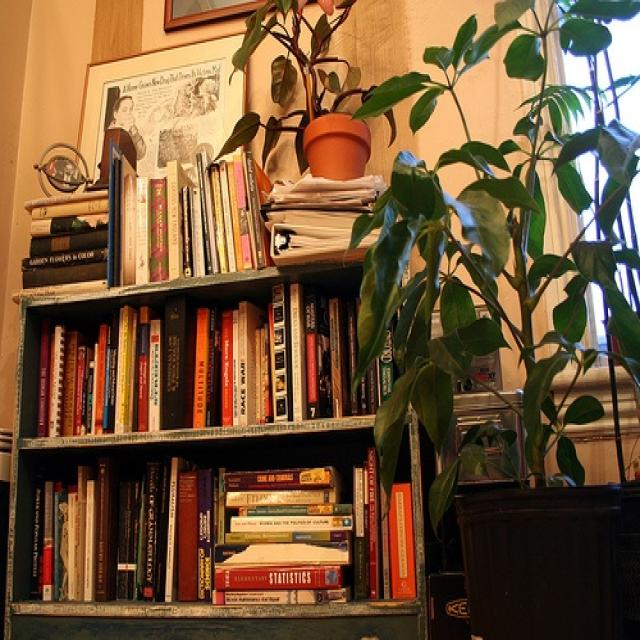pottedplant: (379, 0, 639, 637), (230, 0, 382, 188)
